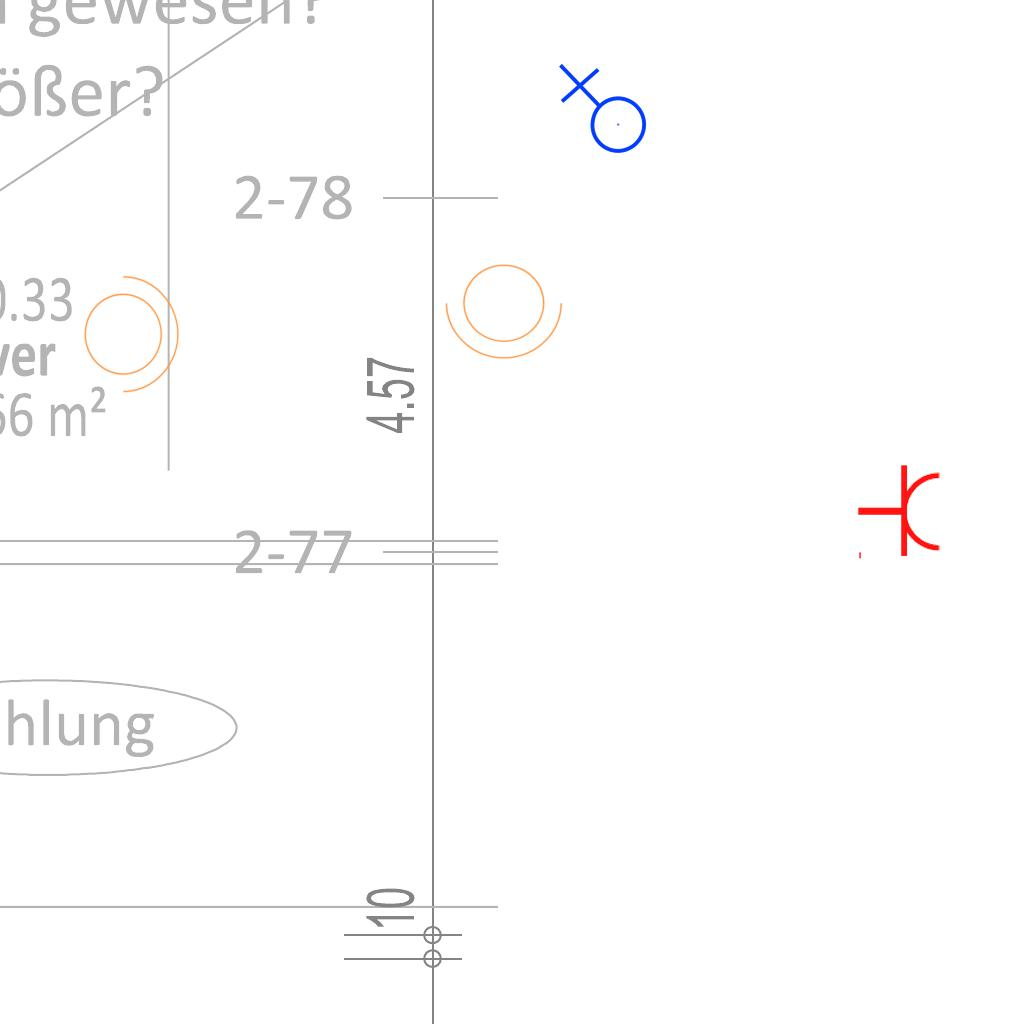Elektroanschluss_allgemein_230V_Geraeteanschlussdose_230V: (554, 63, 648, 162)
Scheinwerfer_fuer_Alarmbeleuchtung: (441, 252, 573, 364), (72, 265, 184, 397)
Schukosteckdose_einfach: (856, 463, 943, 563)
